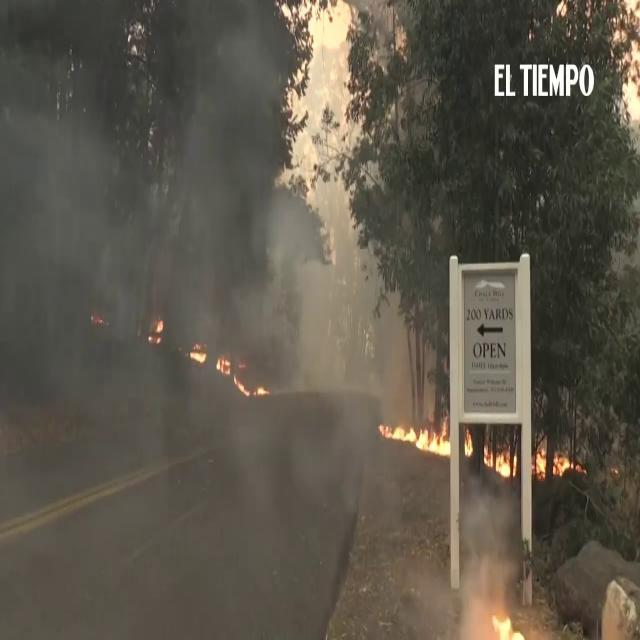Fire: (380, 414, 451, 461), (484, 442, 516, 477), (492, 612, 524, 640), (555, 450, 587, 474), (535, 446, 547, 478), (232, 376, 251, 396), (190, 348, 208, 366), (216, 352, 230, 372), (464, 432, 472, 454), (254, 384, 268, 396), (156, 319, 164, 333)
